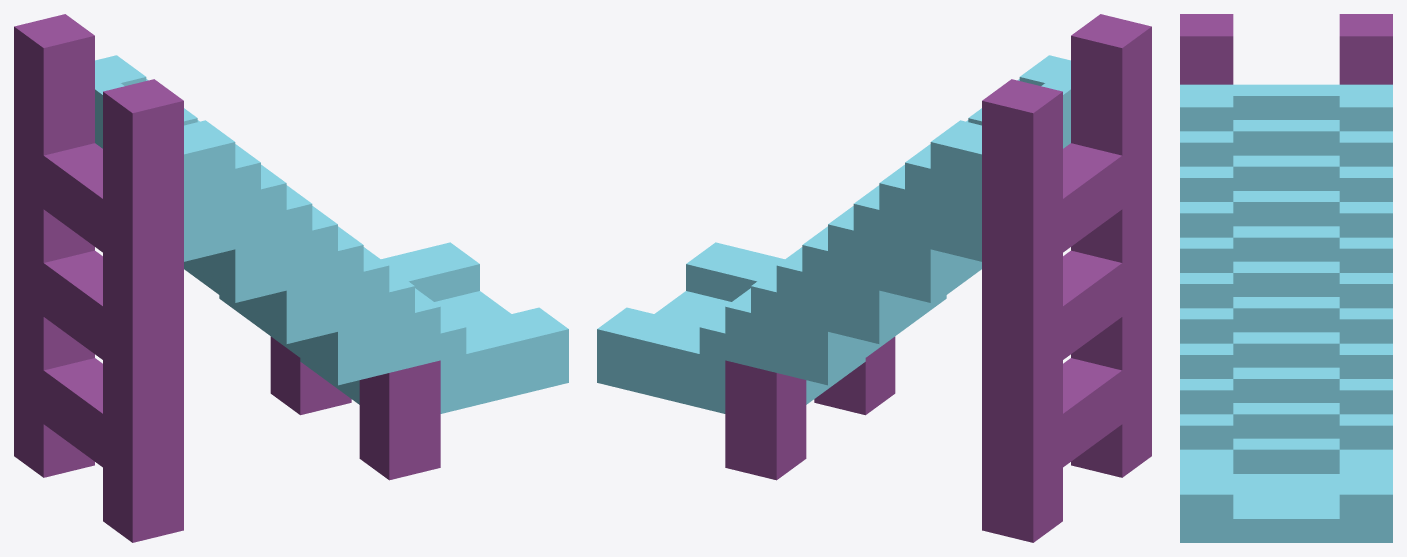
The model's file is outsideSlide.fbx.
The picture shows the model from 3 angles, left to right: view 1: azimuth 30°, elevation 25°; view 2: azimuth 150°, elevation 25°; view 3: azimuth 270°, elevation 25°; orthographic projection. The views are drawn at different scales.
Visible parts, largest first — view 1: default; view 2: default; view 3: default.
Part boxes in pixels (x1,y1,x2,y2): default: (14,14,568,542); default: (597,14,1151,542); default: (1180,14,1392,542).
Size of the model in its own units: 34 by 32 by 16.
